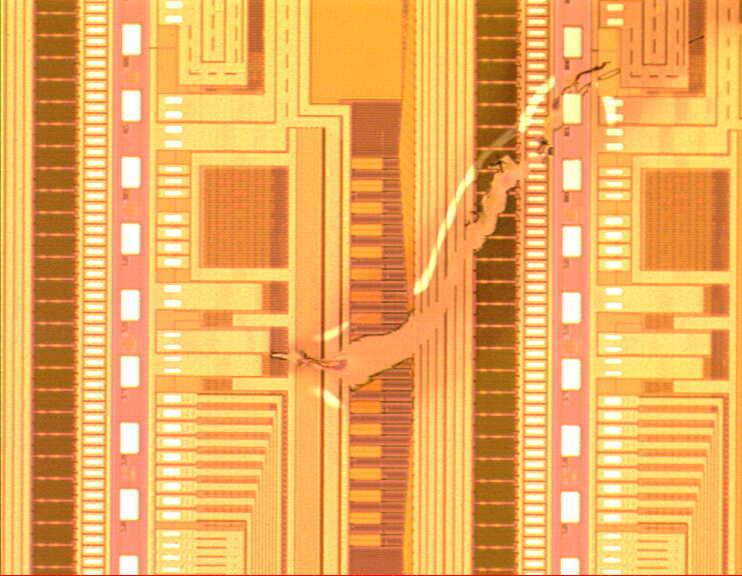BLOCK ETCH: (260, 1, 742, 415)
